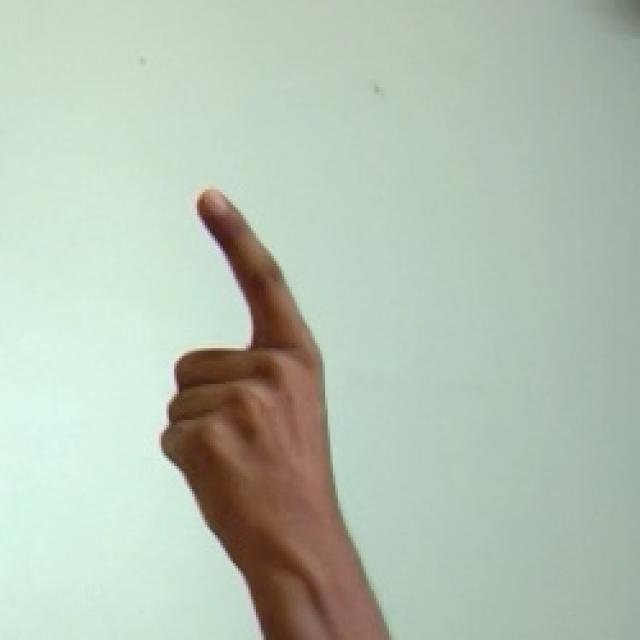Alphabet-I: (122, 171, 406, 637)
